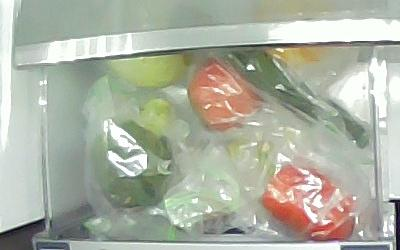apple_vinyl: (188, 58, 266, 133)
broccoli_vinyl: (91, 99, 173, 208)
cucumber_vinyl: (227, 51, 369, 149)
lettuce_vinyl: (105, 51, 189, 87)
paprika_vinyl: (257, 151, 355, 242)
